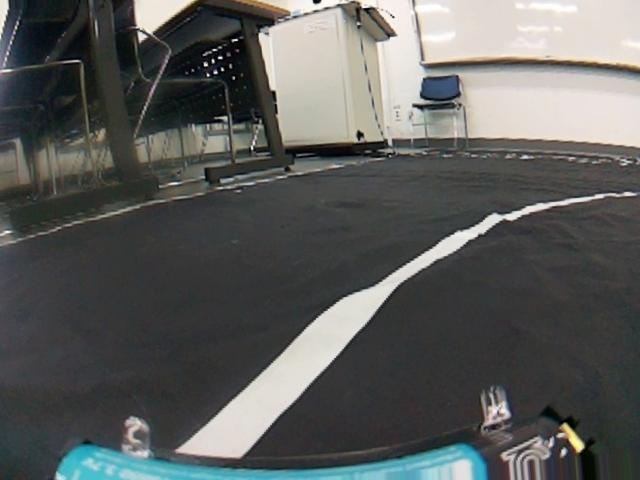right: (14, 186, 640, 480)
